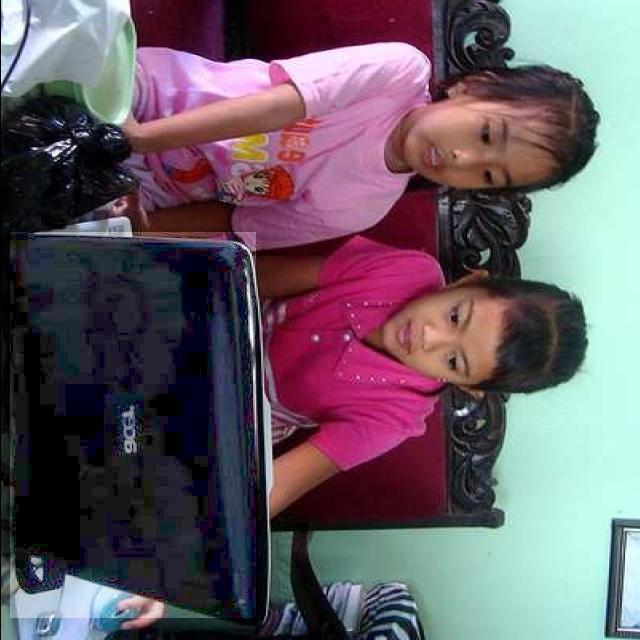-keyboard-: (10, 232, 256, 618)
